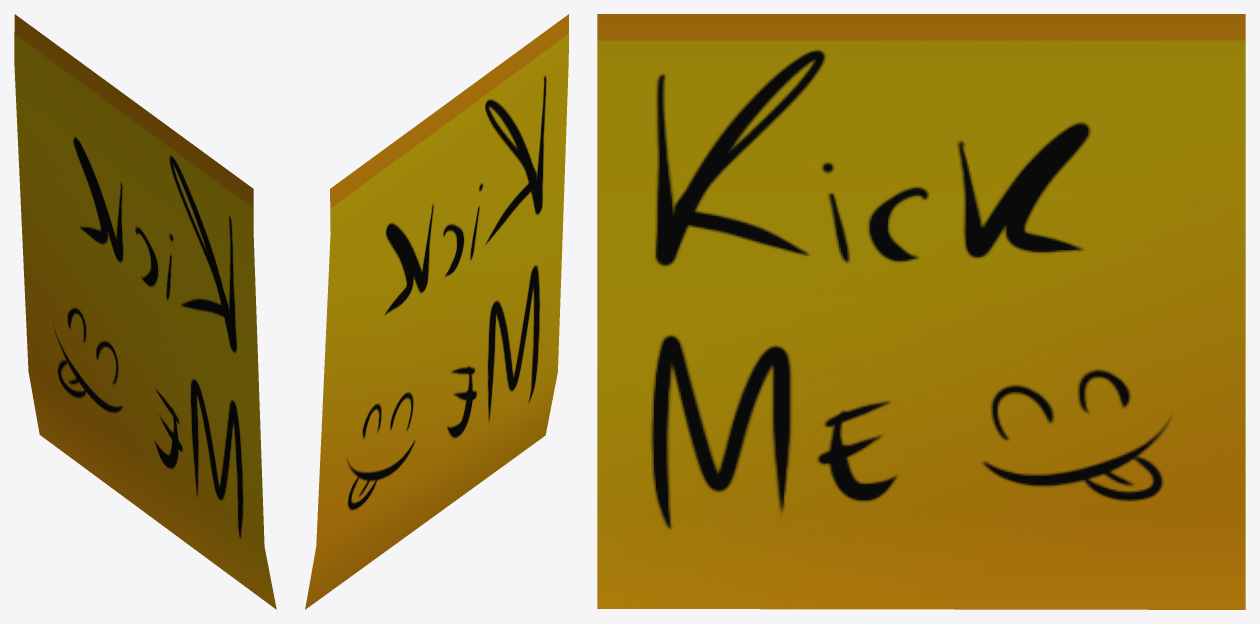
The model's file is Post-it_9.fbx.
The picture shows the model from 3 angles, left to right: view 1: azimuth 30°, elevation 25°; view 2: azimuth 150°, elevation 25°; view 3: azimuth 270°, elevation 25°; orthographic projection. The views are drawn at different scales.
Parts seen in each view (by area): view 1: pPlane11; view 2: pPlane11; view 3: pPlane11.
Boxes of the visible parts, <box> form: pPlane11: <box>14,14,276,609</box>; pPlane11: <box>305,14,568,609</box>; pPlane11: <box>597,14,1245,609</box>.
Size of the model in its own units: 0.6166 by 9.86 by 10.
